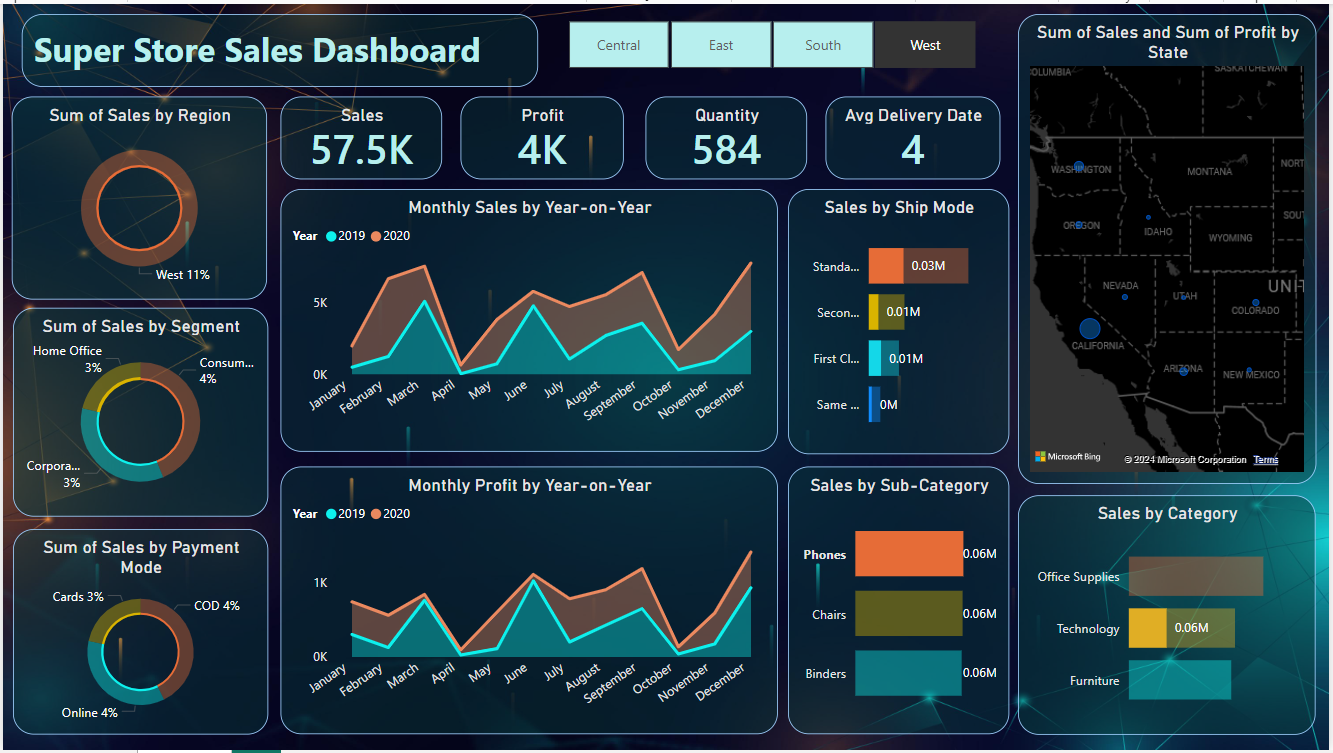

The dashboard page shown, as its layout file describes it:
{"tool":"powerbi","page":{"name":"Page 1","canvas":[1280,720],"ordinal":0},"visuals":[{"type":"clusteredBarChart","title":"Sales by Category","fields":{"Y":["Sum(SuperStore_Sales_Dataset.Sales)"],"Category":["SuperStore_Sales_Dataset.Category"]},"box":[980,473.8,287.5,231.2],"z":0},{"type":"clusteredBarChart","title":"Sales by Sub-Category","fields":{"Y":["Sum(SuperStore_Sales_Dataset.Sales)"],"Category":["SuperStore_Sales_Dataset.Sub-Category"]},"box":[757.5,446.2,213.8,258.8],"z":1000},{"type":"clusteredBarChart","title":"Sales by Ship Mode","fields":{"Y":["Sum(SuperStore_Sales_Dataset.Sales)"],"Category":["SuperStore_Sales_Dataset.Ship Mode"]},"box":[757.5,178.8,213.8,256.2],"z":2000},{"type":"stackedAreaChart","title":"Monthly Sales by Year-on-Year","fields":{"Category":["SuperStore_Sales_Dataset.Order Date.Variation.Date Hierarchy.Month"],"Y":["Sum(SuperStore_Sales_Dataset.Sales)"],"Series":["SuperStore_Sales_Dataset.Order Date.Variation.Date Hierarchy.Year"]},"box":[267.5,178.8,480,253.8],"z":3000},{"type":"stackedAreaChart","title":"Monthly Profit by Year-on-Year","fields":{"Category":["SuperStore_Sales_Dataset.Order Date.Variation.Date Hierarchy.Month","SuperStore_Sales_Dataset.Order Date.Variation.Date Hierarchy.Day"],"Series":["SuperStore_Sales_Dataset.Order Date.Variation.Date Hierarchy.Year"],"Y":["Sum(SuperStore_Sales_Dataset.Profit)"]},"box":[267.5,446.2,480,258.8],"z":4000},{"type":"map","fields":{"Category":["SuperStore_Sales_Dataset.State"],"Size":["Sum(SuperStore_Sales_Dataset.Sales)"]},"box":[979.6,9.7,288.3,453.6],"z":5000},{"type":"donutChart","fields":{"Category":["SuperStore_Sales_Dataset.Segment"],"Y":["Sum(SuperStore_Sales_Dataset.Sales)"]},"box":[10,293.8,246.2,201.2],"z":6000},{"type":"donutChart","fields":{"Y":["Sum(SuperStore_Sales_Dataset.Sales)"],"Category":["SuperStore_Sales_Dataset.Payment Mode"]},"box":[10,506.2,246.2,198.8],"z":7000},{"type":"slicer","fields":{"Values":["SuperStore_Sales_Dataset.Region"]},"box":[520,10,442.5,58.8],"z":8000},{"type":"textbox","box":[17.5,10,498.8,70],"z":9000},{"type":"card","title":"Sales","fields":{"Values":["Sum(SuperStore_Sales_Dataset.Sales)"]},"box":[267.5,88.8,156.2,80],"z":10000},{"type":"card","title":"Profit","fields":{"Values":["Sum(SuperStore_Sales_Dataset.Profit)"]},"box":[441.2,88.8,157.5,80],"z":11000},{"type":"card","title":"Quantity","fields":{"Values":["Sum(SuperStore_Sales_Dataset.Quantity)"]},"box":[620,88.8,156.2,80],"z":12000},{"type":"card","title":"Avg Delivery Date","fields":{"Values":["Avg(SuperStore_Sales_Dataset.AVGDeliverDate)"]},"box":[793.8,88.8,168.8,80],"z":13000},{"type":"donutChart","fields":{"Y":["Sum(SuperStore_Sales_Dataset.Sales)"],"Category":["SuperStore_Sales_Dataset.Region"]},"box":[8.8,88.8,246.2,196.2],"z":14000}]}

Visuals, with their boxes in screenshot pixels (x1, y1, x2, y2), scaled from the page's 1280x720 canvas onto the 1333x753 screenshot:
"Sales by Category" clusteredBarChart: left=1021, top=496, right=1320, bottom=737
"Sales by Sub-Category" clusteredBarChart: left=789, top=467, right=1012, bottom=737
"Sales by Ship Mode" clusteredBarChart: left=789, top=187, right=1012, bottom=455
"Monthly Sales by Year-on-Year" stackedAreaChart: left=279, top=187, right=778, bottom=452
"Monthly Profit by Year-on-Year" stackedAreaChart: left=279, top=467, right=778, bottom=737
map - SuperStore_Sales_Dataset.State x Sum(SuperStore_Sales_Dataset.Sales): left=1020, top=10, right=1320, bottom=485
donutChart - SuperStore_Sales_Dataset.Segment x Sum(SuperStore_Sales_Dataset.Sales): left=10, top=307, right=267, bottom=518
donutChart - Sum(SuperStore_Sales_Dataset.Sales) x SuperStore_Sales_Dataset.Payment Mode: left=10, top=529, right=267, bottom=737
slicer - SuperStore_Sales_Dataset.Region: left=542, top=10, right=1002, bottom=72
textbox: left=18, top=10, right=538, bottom=84
"Sales" card: left=279, top=93, right=441, bottom=177
"Profit" card: left=459, top=93, right=623, bottom=177
"Quantity" card: left=646, top=93, right=808, bottom=177
"Avg Delivery Date" card: left=827, top=93, right=1002, bottom=177
donutChart - Sum(SuperStore_Sales_Dataset.Sales) x SuperStore_Sales_Dataset.Region: left=9, top=93, right=266, bottom=298
